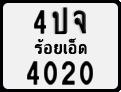letters: (51, 6, 69, 35), (73, 8, 88, 35), (60, 60, 76, 85), (32, 9, 47, 35), (26, 59, 40, 86), (43, 60, 58, 85), (79, 61, 94, 86)
province: (34, 37, 88, 56)
